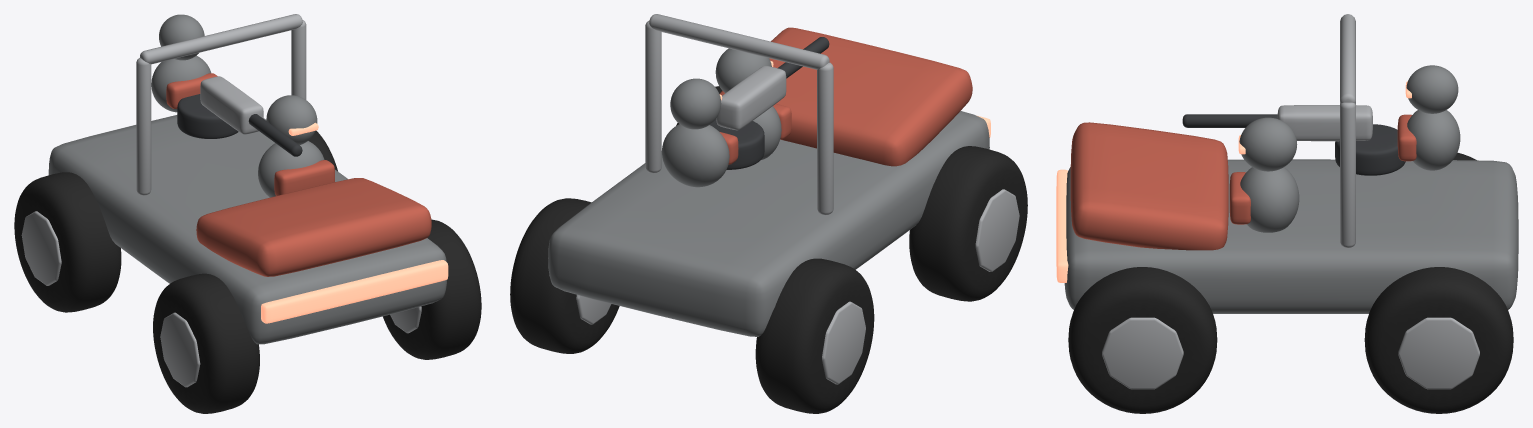
The model's file is vehicle_buggy.glb.
3 views of the same model, side by side, from view 1: azimuth 30°, elevation 25°; view 2: azimuth 150°, elevation 25°; view 3: azimuth 270°, elevation 25° (orthographic). The views are drawn at different scales.
Visible parts, largest first — view 1: Cube, Cube.001, Cylinder.005, Cylinder.009, Cylinder.003 (×2), Cube.002, Cylinder.002, Cube.005, Cylinder.004, Cylinder.006, Cylinder, Cylinder.007 (+8 smaller); view 2: Cube, Cube.001, Cylinder.005 (×2), Cylinder.009, Cylinder.007 (×2), Sphere.002, Cylinder.002, Cube.005, Cylinder.004, Cylinder.006, Cylinder, Cylinder.001 (+4 smaller); view 3: Cube, Cube.001, Cylinder.003 (×2), Cylinder.007 (×2), Cylinder.005, Sphere, Cube.005, Sphere.002, Sphere.001, Cylinder.001, Sphere.003, Cylinder.002 (+4 smaller).
Part boxes in pixels (x1=…): Cube: x1=48, y1=115, x2=446, y2=344; Cube.001: x1=196, y1=178, x2=431, y2=276; Cylinder.005: x1=153, y1=273, x2=259, y2=413; Cylinder.009: x1=14, y1=172, x2=121, y2=312; Cylinder.003 (×2): x1=383, y1=219, x2=481, y2=359; Cube.002: x1=261, y1=260, x2=448, y2=323; Cylinder.002: x1=140, y1=14, x2=302, y2=64; Cube.005: x1=200, y1=76, x2=263, y2=134; Cylinder.004: x1=160, y1=312, x2=200, y2=387; Cylinder.006: x1=21, y1=211, x2=61, y2=285; Cylinder: x1=136, y1=58, x2=151, y2=195; Cylinder.007: x1=177, y1=94, x2=238, y2=138; Cube: x1=548, y1=111, x2=989, y2=336; Cube.001: x1=719, y1=27, x2=972, y2=166; Cylinder.005 (×2): x1=576, y1=146, x2=1027, y2=324; Cylinder.009: x1=755, y1=258, x2=874, y2=413; Cylinder.007 (×2): x1=510, y1=119, x2=764, y2=353; Sphere.002: x1=662, y1=124, x2=729, y2=187; Cylinder.002: x1=649, y1=14, x2=829, y2=69; Cube.005: x1=716, y1=65, x2=786, y2=130; Cylinder.004: x1=975, y1=189, x2=1019, y2=271; Cylinder.006: x1=822, y1=301, x2=865, y2=384; Cylinder: x1=817, y1=62, x2=833, y2=215; Cylinder.001: x1=645, y1=21, x2=661, y2=173; Cube: x1=1064, y1=159, x2=1518, y2=313; Cube.001: x1=1070, y1=122, x2=1228, y2=250; Cylinder.003 (×2): x1=1068, y1=267, x2=1217, y2=413; Cylinder.007 (×2): x1=1335, y1=124, x2=1513, y2=413; Cylinder.005: x1=1398, y1=317, x2=1479, y2=389; Sphere: x1=1240, y1=167, x2=1299, y2=232; Cube.005: x1=1277, y1=105, x2=1372, y2=141; Sphere.002: x1=1407, y1=110, x2=1460, y2=170; Sphere.001: x1=1239, y1=117, x2=1297, y2=171; Cylinder.001: x1=1340, y1=102, x2=1355, y2=247; Sphere.003: x1=1406, y1=65, x2=1458, y2=113; Cylinder.002: x1=1340, y1=14, x2=1355, y2=103.
Bounding box in the file's own units: 1.5 × 1.43 × 2.03.
Materials: 2 (2 with a texture image).
